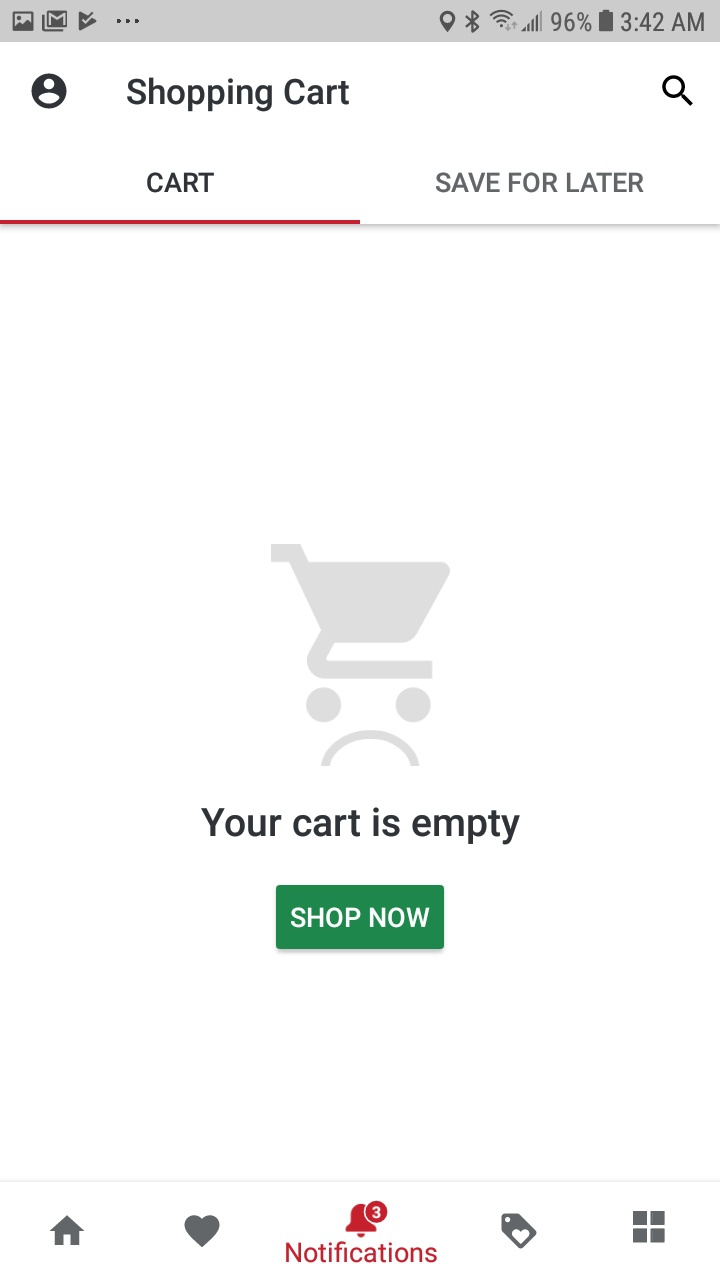Icon: (345, 1200, 388, 1238), (501, 1212, 538, 1249), (32, 74, 68, 110), (184, 1214, 221, 1247), (632, 1210, 666, 1244), (50, 1214, 85, 1245), (662, 75, 694, 107)
Image: (271, 544, 451, 767)
Text: (201, 807, 521, 846), (127, 78, 350, 113), (436, 172, 644, 194), (286, 1241, 438, 1263), (147, 172, 215, 194)
TextButton: (276, 885, 445, 950)
UpperTaskBar: (1, 1, 720, 43)
